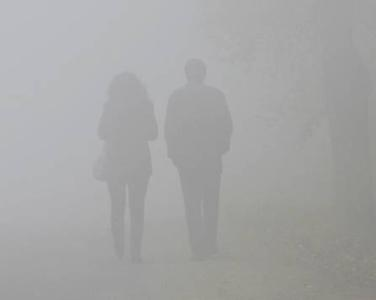person: (164, 57, 236, 261), (94, 70, 162, 267)
